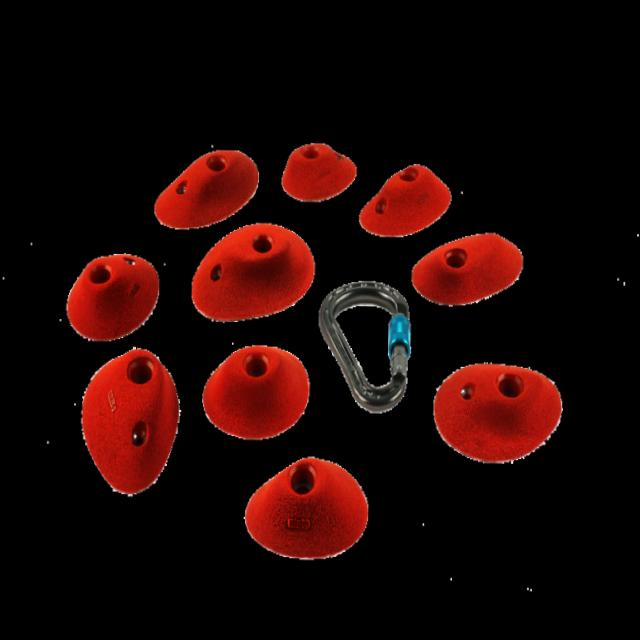Hold: (80, 350, 178, 497), (191, 213, 316, 325), (430, 357, 564, 458), (246, 454, 367, 556), (190, 343, 311, 440), (152, 146, 261, 237), (70, 248, 162, 343), (418, 224, 522, 305), (357, 163, 452, 241), (280, 142, 360, 203)
